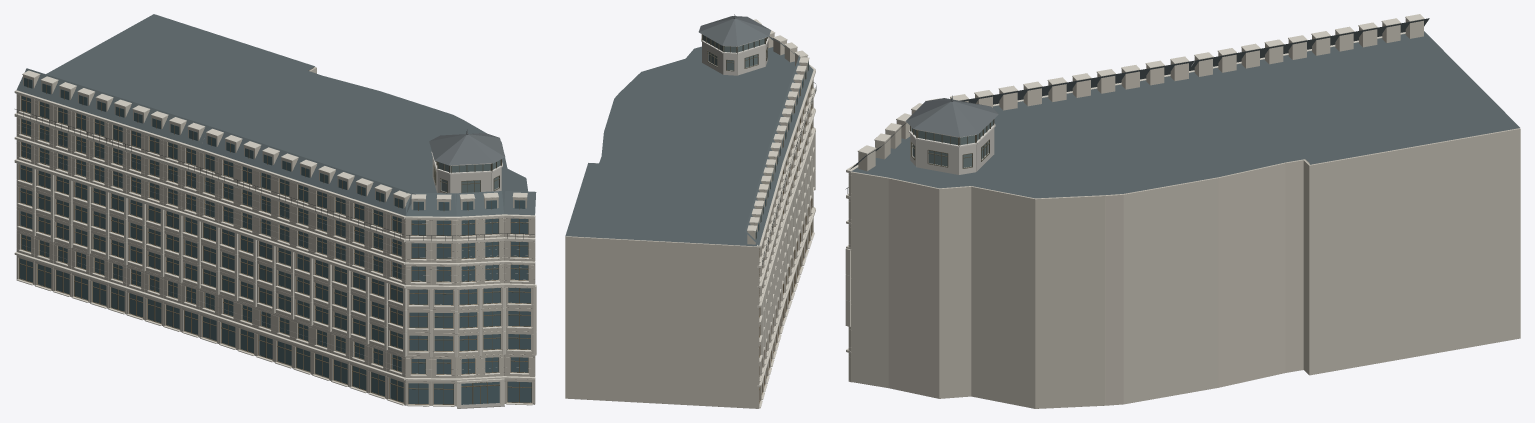
File: 61a-exterior-2560446f41ff.glb
3 renders of one model, left to right at view 1: azimuth 30°, elevation 25°; view 2: azimuth 150°, elevation 25°; view 3: azimuth 270°, elevation 25°, orthographic. The views are drawn at different scales.
Parts seen in each view (by area): view 1: 61A.001; view 2: 61A.001; view 3: 61A.001.
Boxes of the visible parts, x1=… form: 61A.001: x1=14, y1=14, x2=536, y2=408; 61A.001: x1=565, y1=14, x2=816, y2=408; 61A.001: x1=845, y1=14, x2=1520, y2=408.
Size of the model in its own units: 51.25 by 38.48 by 85.72.
